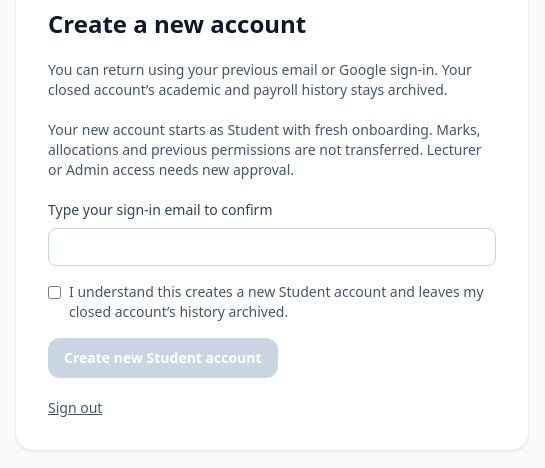
it: a proof rejected by the server requires signing in again
Type "returning@example.test" into the field labelled "Type your sign-in email to confirm" at [272, 247], box [48,228,496,266]
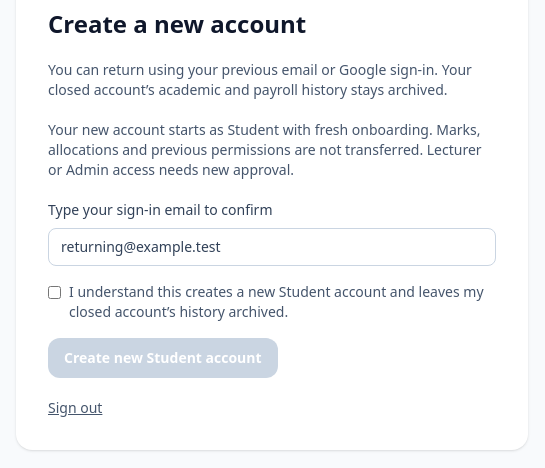
Click the checkbox at [54, 292], box [48,286,61,299]
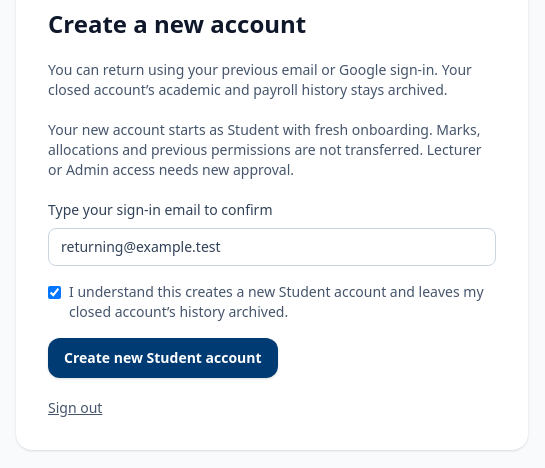
Click the button "Create new Student account" at [163, 358], box [48,338,278,378]
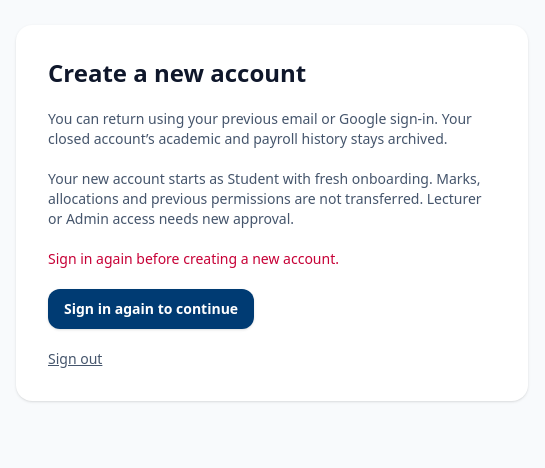
Expected: the button "Sign in again to continue" is enabled, [48,289,254,329]
Expected: the message shows "Sign in again", [48,249,339,268]
